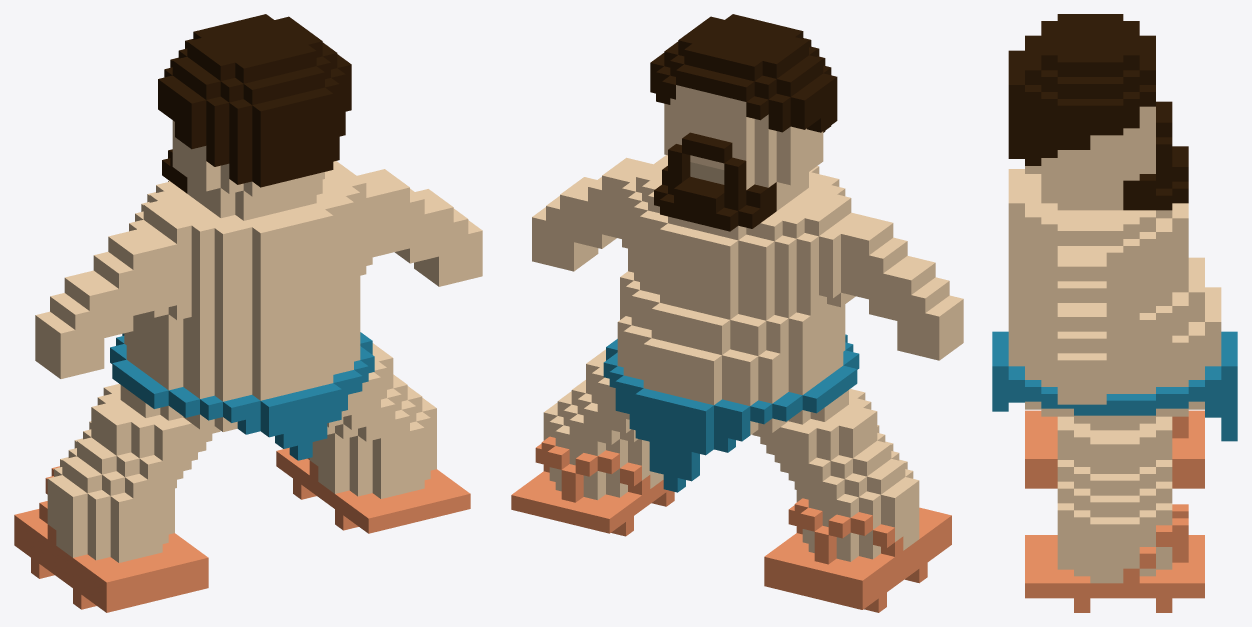
File: Tristan Flipped.obj
3 views of the same model, side by side, from view 1: azimuth 30°, elevation 25°; view 2: azimuth 150°, elevation 25°; view 3: azimuth 270°, elevation 25° (orthographic). The views are drawn at different scales.
Size of the model in its own units: 29 by 34 by 15.
1 material, 1 textured.
